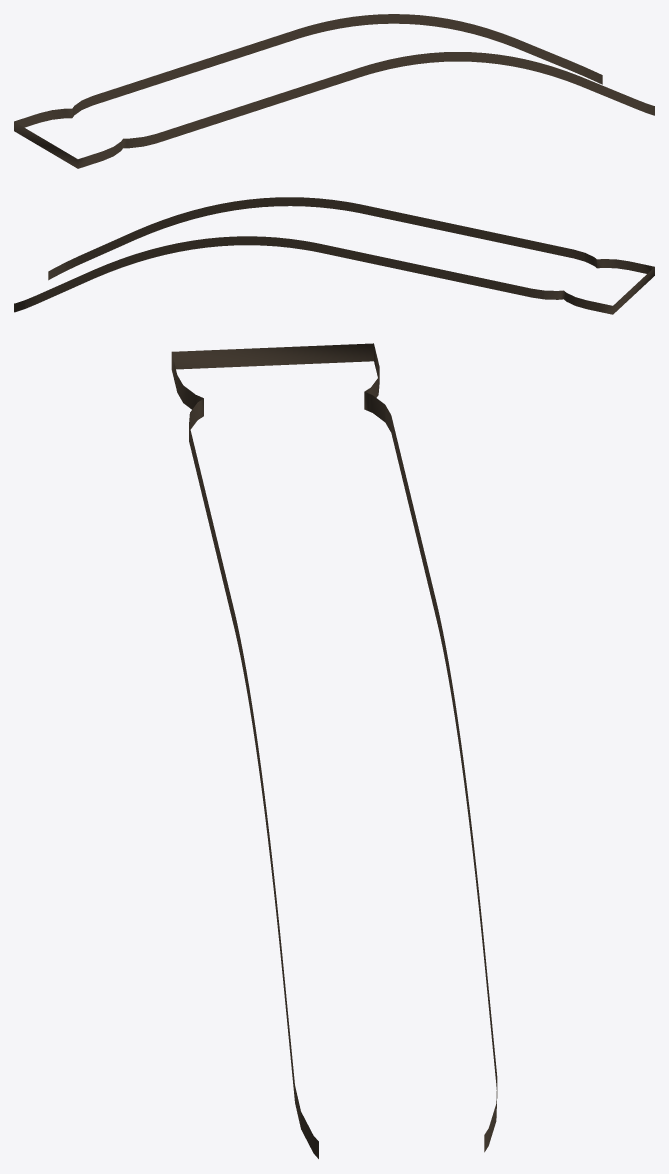
3 views of the same model, one above another, from view 1: azimuth 30°, elevation 25°; view 2: azimuth 150°, elevation 25°; view 3: azimuth 270°, elevation 25° (orthographic). The views are drawn at different scales.
Visible parts, largest first — view 1: prototype; view 2: prototype; view 3: prototype.
Boxes of the visible parts, x1,y1,x2,y2 form: prototype: (14,14,654,168); prototype: (14,197,654,314); prototype: (171,343,497,1158).
Bounding box in the file's own units: 21.69 × 4.72 × 5.29.
